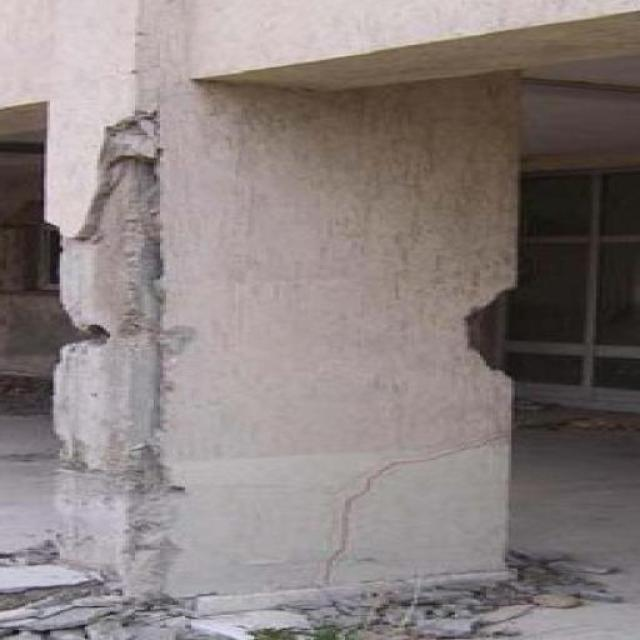D10: (52, 112, 172, 596), (320, 435, 502, 585), (465, 292, 506, 369)
